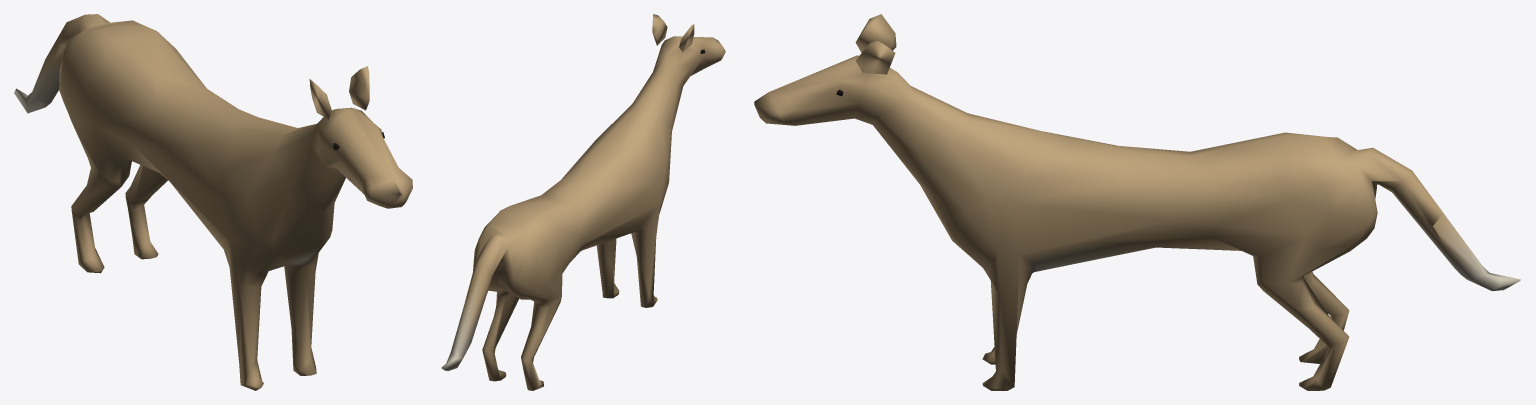
Rendered from dingo.glb.
3 views of the same model, side by side, from view 1: azimuth 30°, elevation 25°; view 2: azimuth 150°, elevation 25°; view 3: azimuth 270°, elevation 25° (orthographic). The views are drawn at different scales.
Visible parts, largest first — view 1: lack; view 2: lack; view 3: lack.
Boxes of the visible parts, <box> form: lack: <box>14,14,412,390</box>; lack: <box>441,14,725,390</box>; lack: <box>754,14,1520,390</box>.
Size of the model in its own units: 0.233 by 0.8193 by 1.64.
